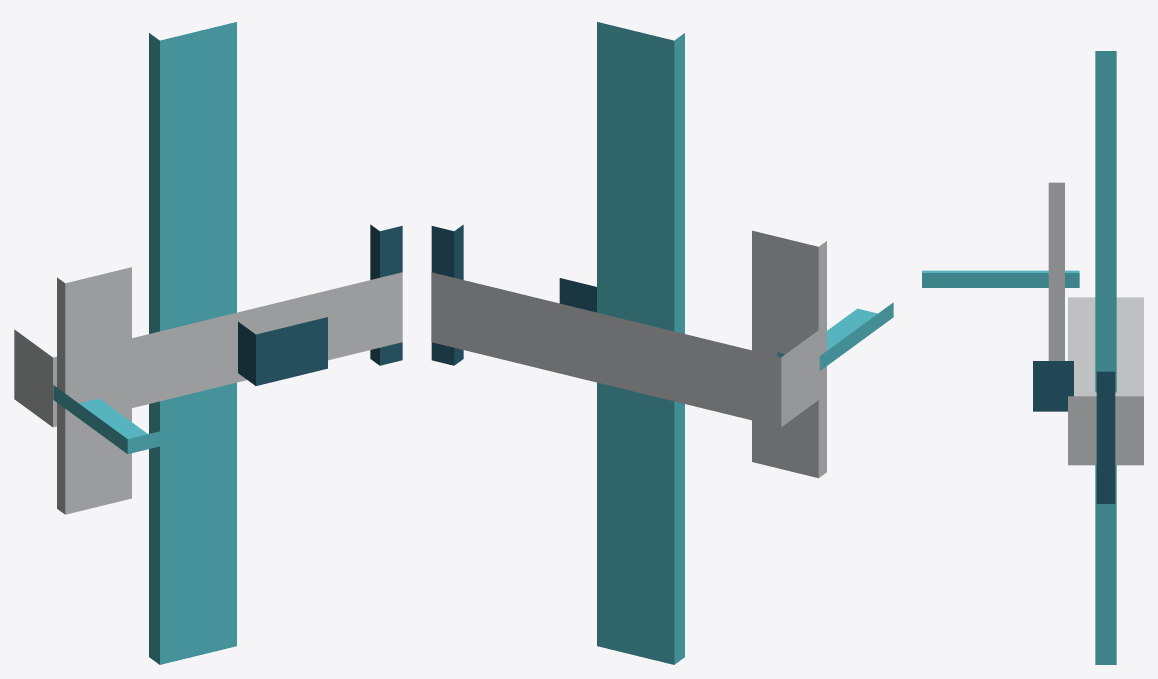
Rendered from drone.glb.
The picture shows the model from 3 angles, left to right: view 1: azimuth 30°, elevation 25°; view 2: azimuth 150°, elevation 25°; view 3: azimuth 270°, elevation 25°; orthographic projection.
Visible parts, largest first — view 1: RohuPlanner original fixed-wing aircraft; view 2: RohuPlanner original fixed-wing aircraft; view 3: RohuPlanner original fixed-wing aircraft.
Boxes of the visible parts, left/top/right/bottom form: RohuPlanner original fixed-wing aircraft: left=14, top=22, right=402, bottom=664; RohuPlanner original fixed-wing aircraft: left=431, top=22, right=893, bottom=664; RohuPlanner original fixed-wing aircraft: left=922, top=51, right=1143, bottom=664.
Bounding box in the file's own units: 3.54 × 5.8 × 1.9.
